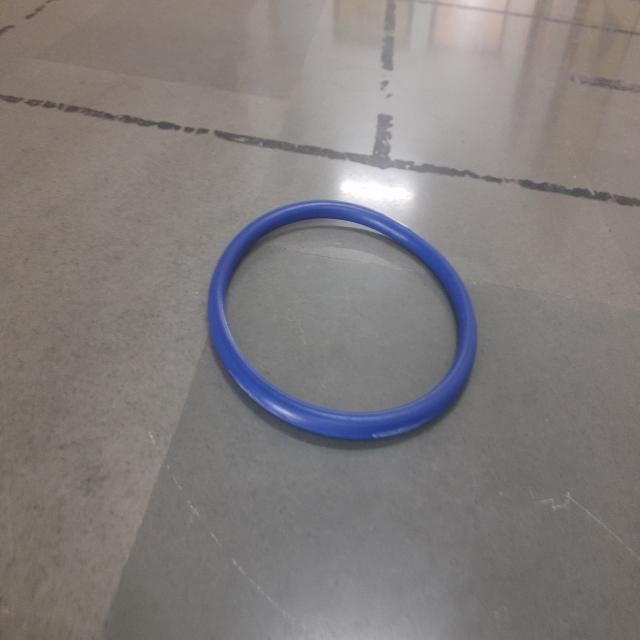daire: (210, 197, 480, 446)
